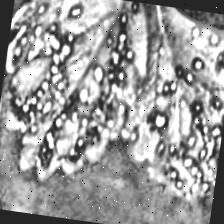Leaf Spot: (0, 0, 155, 197), (110, 2, 224, 207), (139, 4, 224, 101)
